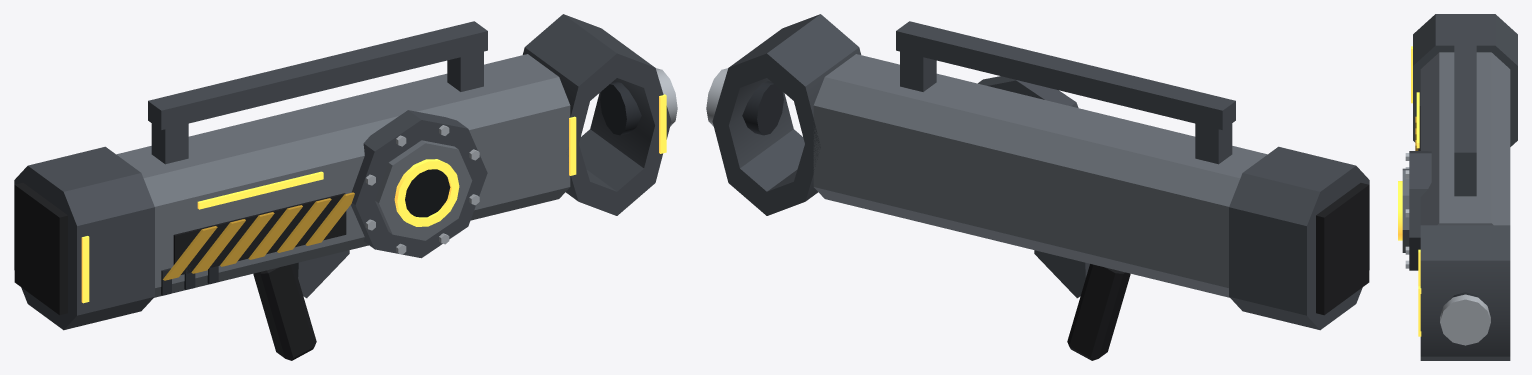
File: opr_wpn_breach_charge_a.glb
The picture shows the model from 3 angles, left to right: view 1: azimuth 30°, elevation 25°; view 2: azimuth 150°, elevation 25°; view 3: azimuth 270°, elevation 25°; orthographic projection. The views are drawn at different scales.
Visible parts, largest first — view 1: mesh_intact; view 2: mesh_intact; view 3: mesh_intact.
Boxes of the visible parts, x1,y1,x2,y2 form: mesh_intact: (14,14,677,360); mesh_intact: (706,14,1369,360); mesh_intact: (1398,14,1517,360).
Bounding box in the file's own units: 0.804 × 0.3492 × 0.16.
